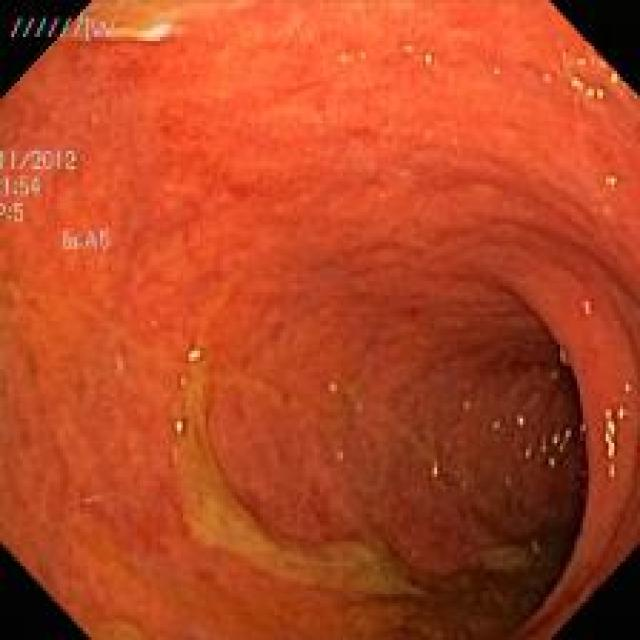ulcerative-colitis-grade-1: (0, 4, 630, 638)
